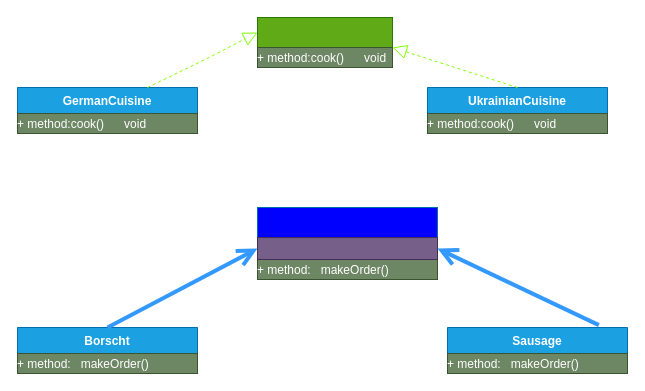
This 645x391 diagram has some shape labels left out. Here are the shapes that lost their labels. From the top down, the centre of each, then its label:
At pixel 324 32: "«interface» Cuisine".
At pixel 347 222: "«abstractClass» DishToOrder".
At pixel 347 248: "+ field: cuisine Cuisine".
